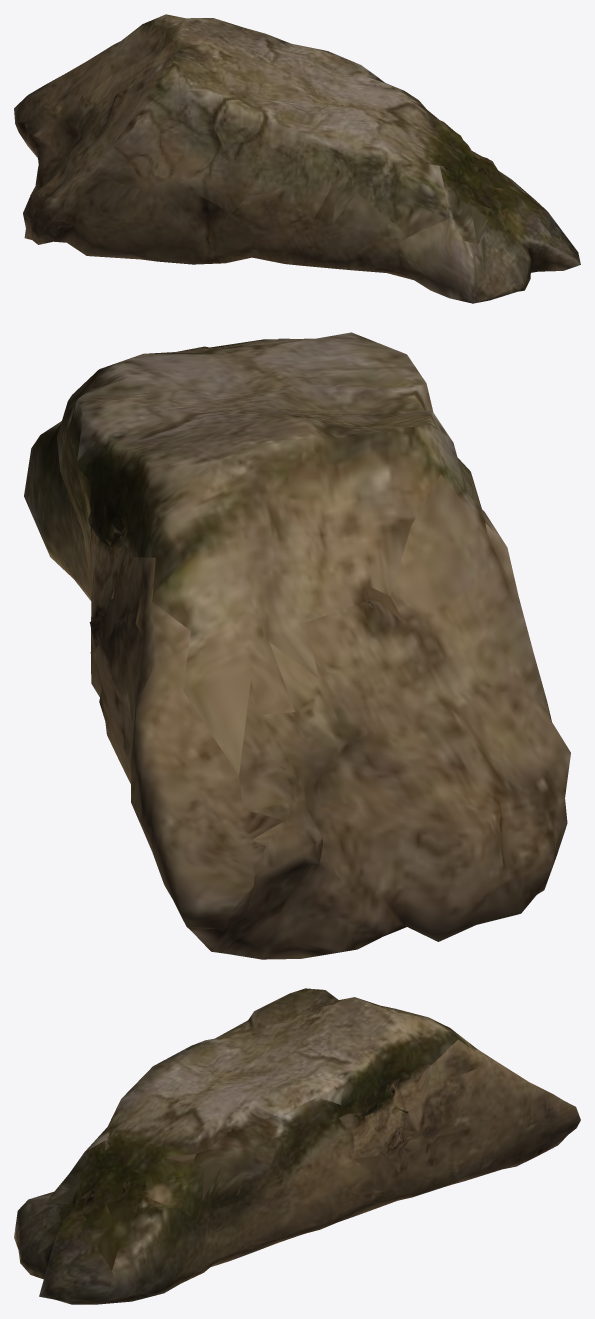
File: rock_1.glb
3 views of the same model, one above another, from view 1: azimuth 30°, elevation 25°; view 2: azimuth 150°, elevation 25°; view 3: azimuth 270°, elevation 25° (orthographic). The views are drawn at different scales.
Parts seen in each view (by area): view 1: rock_moss_set_01_rock02; view 2: rock_moss_set_01_rock02; view 3: rock_moss_set_01_rock02.
Boxes of the visible parts, x1,y1,x2,y2 form: rock_moss_set_01_rock02: (14,14,580,303); rock_moss_set_01_rock02: (24,332,570,959); rock_moss_set_01_rock02: (14,988,580,1304).
Size of the model in its own units: 2.65 by 1.26 by 3.26.
1 material, 1 textured.
